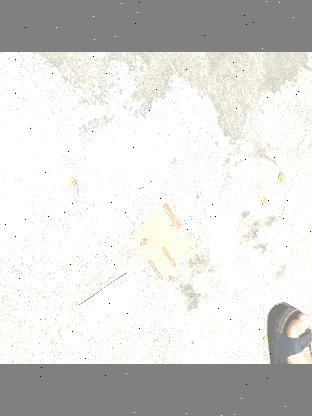Others: (108, 113, 191, 200), (75, 256, 146, 338), (126, 197, 194, 281), (202, 205, 240, 273)
